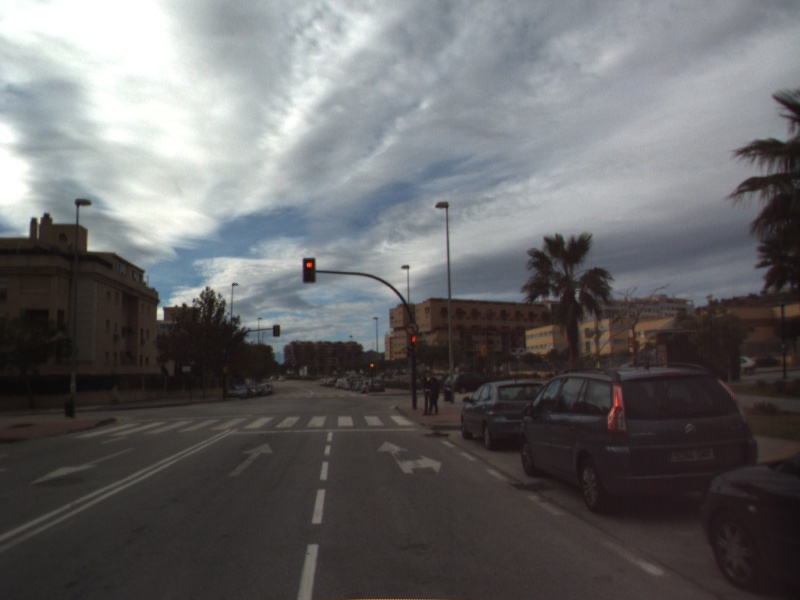STRAIGHT: (227, 441, 276, 478)
STRAIGHT_RIGHT: (375, 439, 444, 476)
